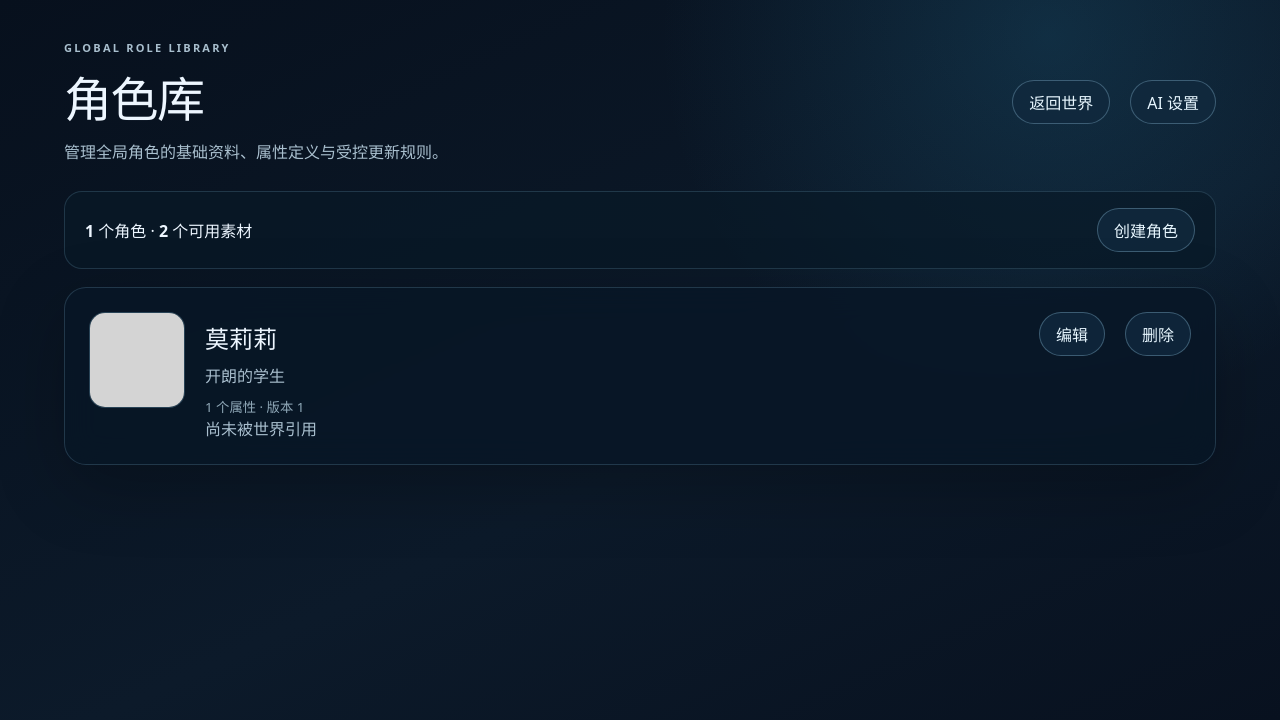
Test: RoleLibraryPage › requires explicit confirmation before deleting an unreferenced role
Click the button with aria-label "删除角色 莫莉莉".
click(1158, 334)  # box [1125,312,1191,356]
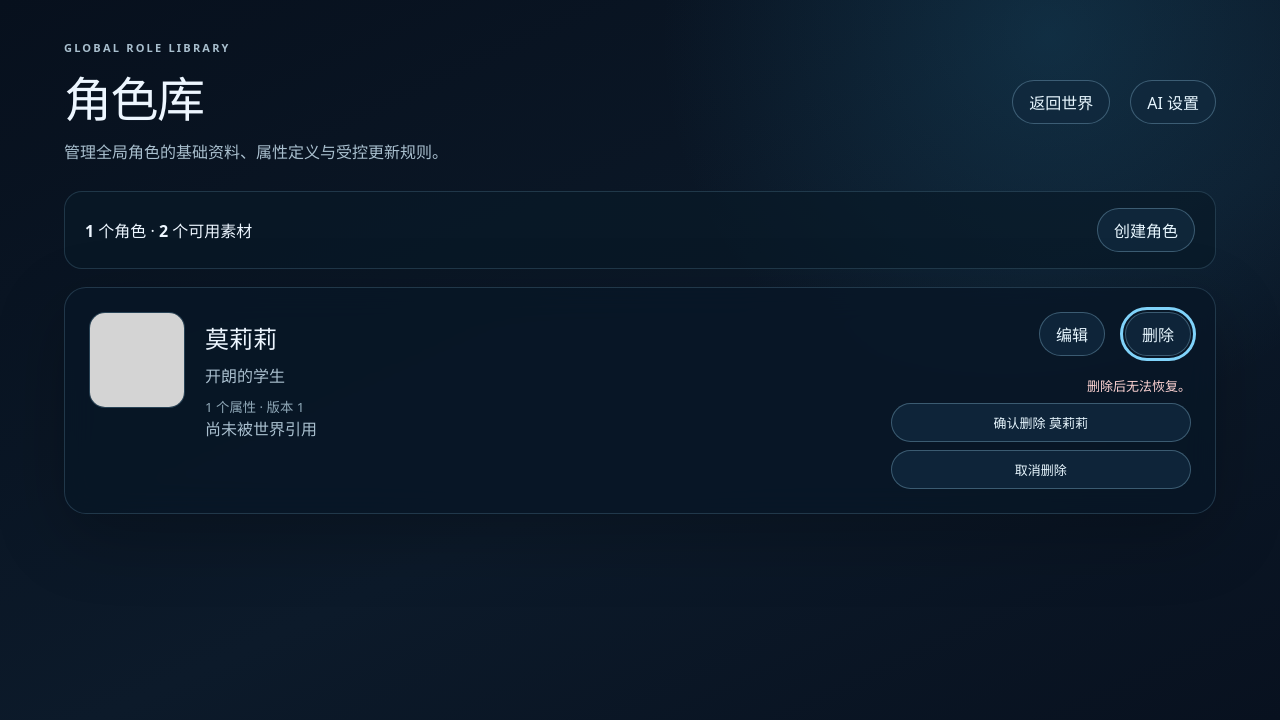
Click the button "确认删除 莫莉莉".
click(1041, 422)  # box [891,403,1191,442]
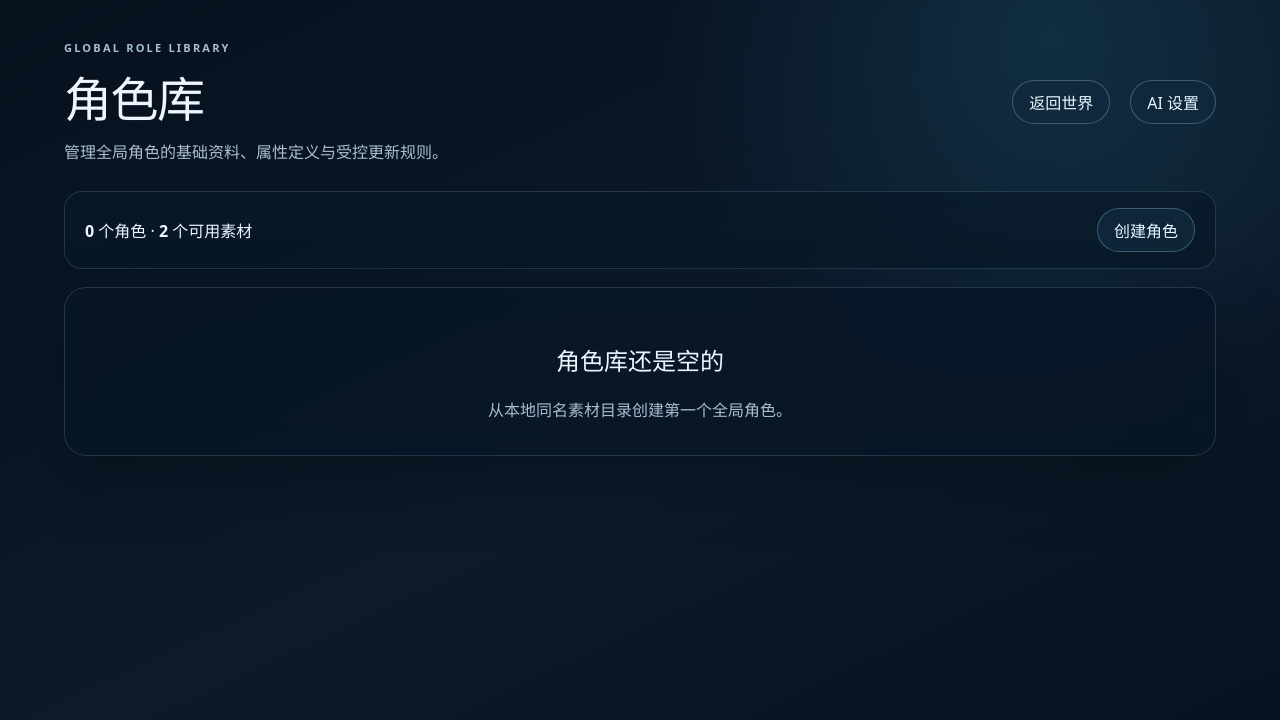
Now the heading "角色库还是空的" is shown, box [556,344,724,377]
